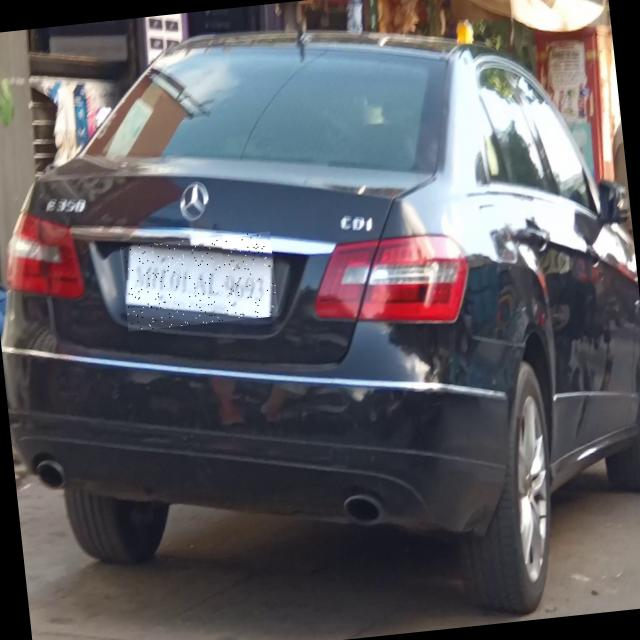Plate: (121, 232, 280, 332)
